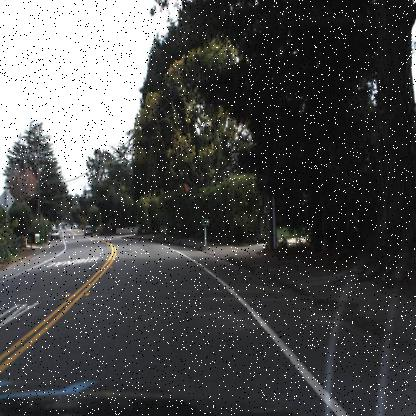car: (82, 221, 93, 240), (82, 224, 92, 239), (50, 228, 60, 242)
